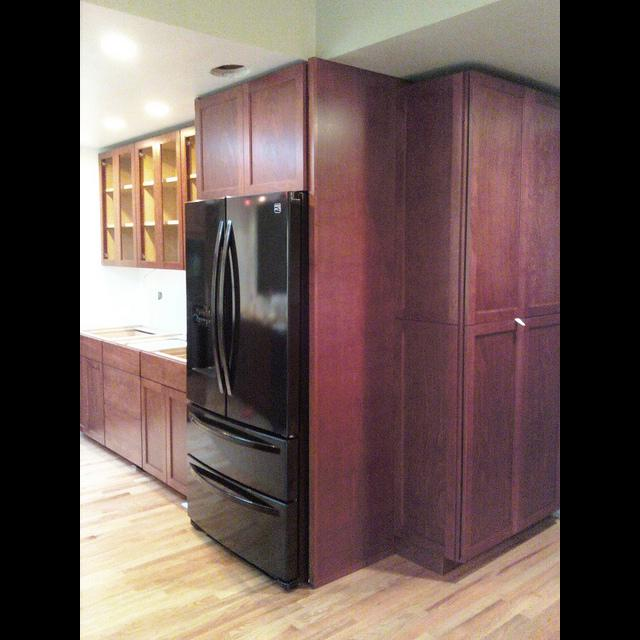Refrigerator: (182, 194, 309, 588)
